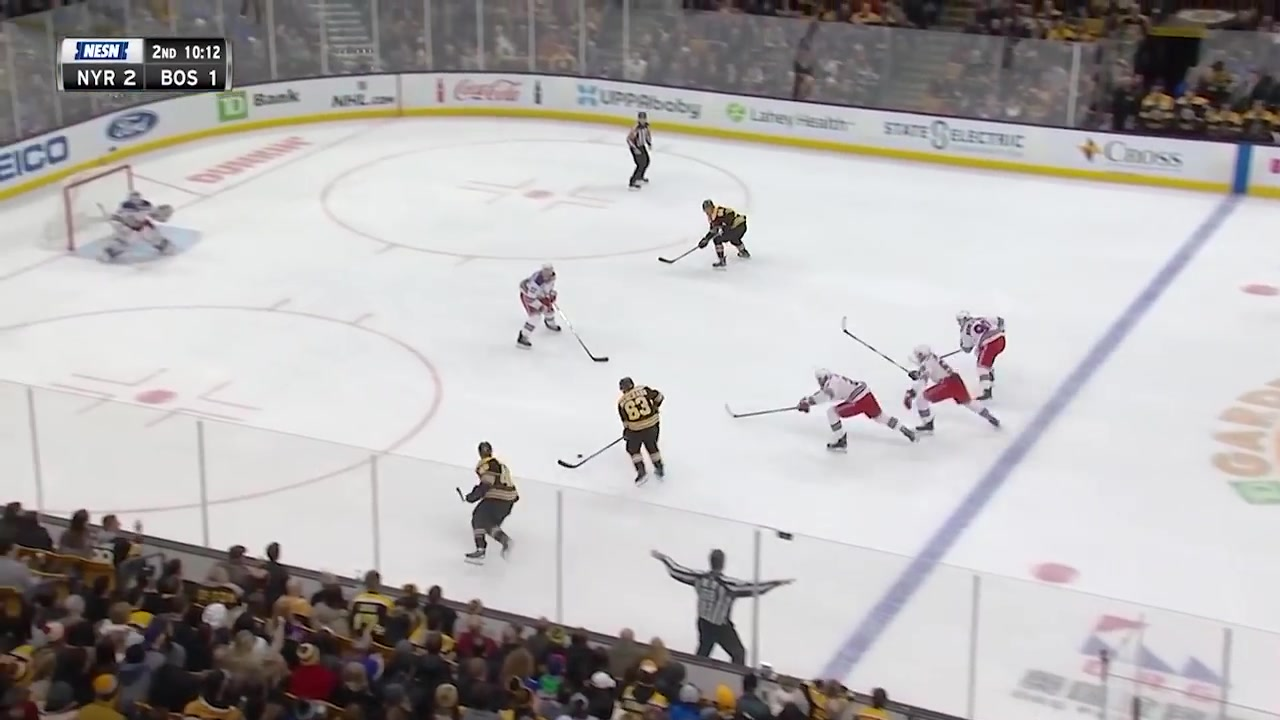Geico: (1, 116, 73, 200)
